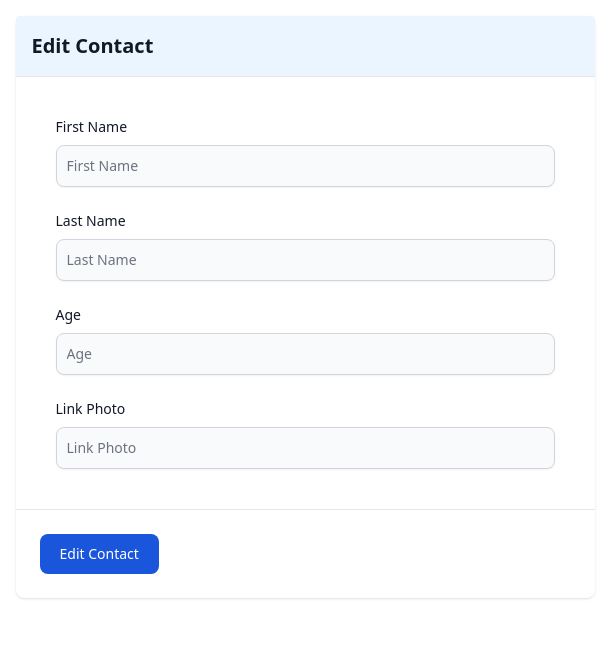
Test: EditContactPage › should display an error message when submitting the form with empty fields
The width and height of the screenshot is (612, 656).
Click the button "Edit Contact" at (99, 554), box [40, 534, 159, 574]
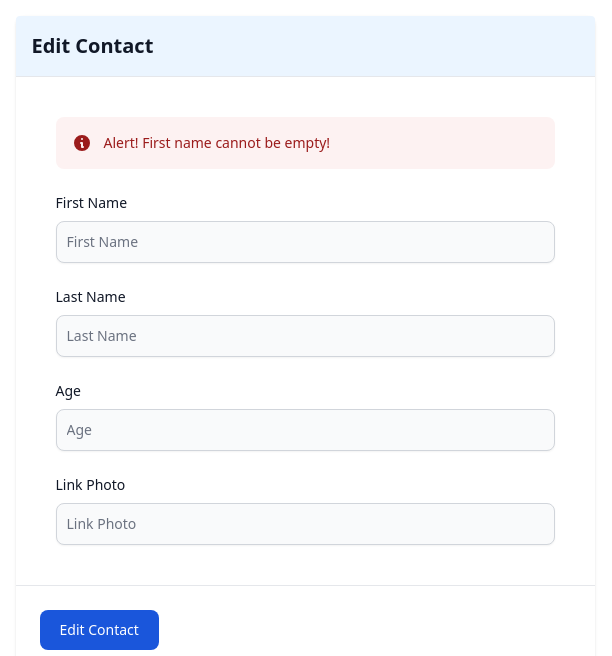
Check: the text "First name cannot be empty!" is shown, box [142, 133, 330, 152]
